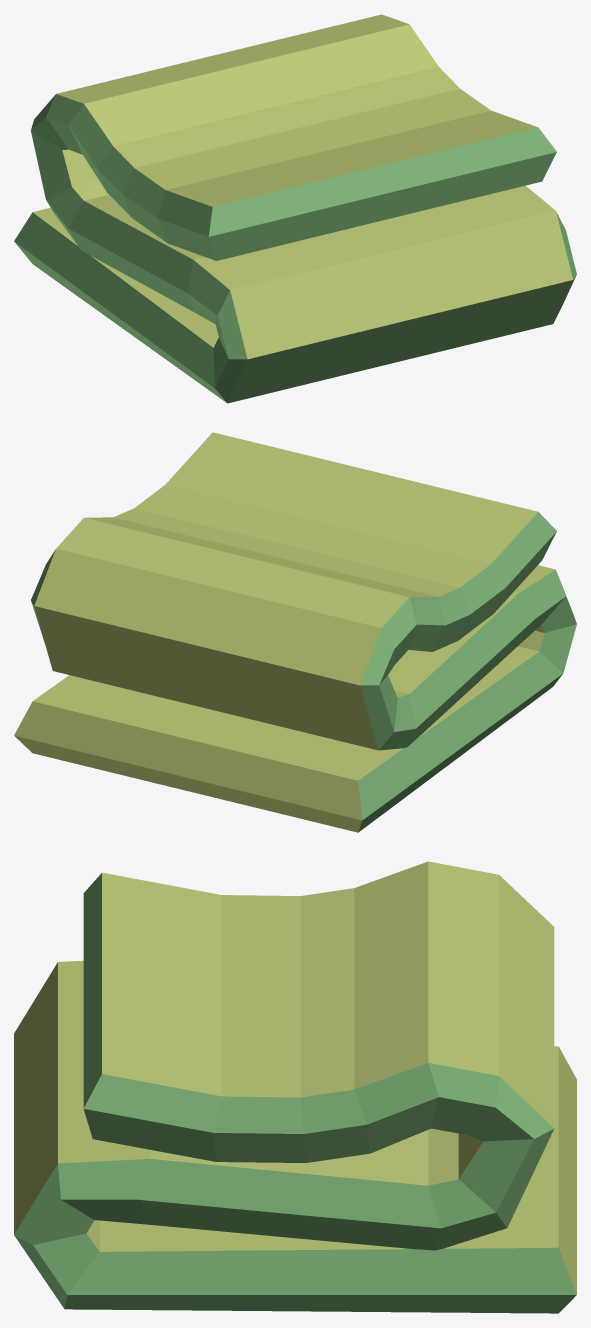
The model's file is Folded Cloth.fbx.
The picture shows the model from 3 angles, top to bottom: view 1: azimuth 30°, elevation 25°; view 2: azimuth 150°, elevation 25°; view 3: azimuth 270°, elevation 25°; orthographic projection. The views are drawn at different scales.
Parts seen in each view (by area): view 1: Folded Cloth; view 2: Folded Cloth; view 3: Folded Cloth.
Part boxes in pixels (bbox=[...]): Folded Cloth: bbox=[14, 14, 576, 403]; Folded Cloth: bbox=[14, 432, 576, 832]; Folded Cloth: bbox=[14, 861, 576, 1313].
Size of the model in its own units: 49.53 by 26.88 by 54.7.
